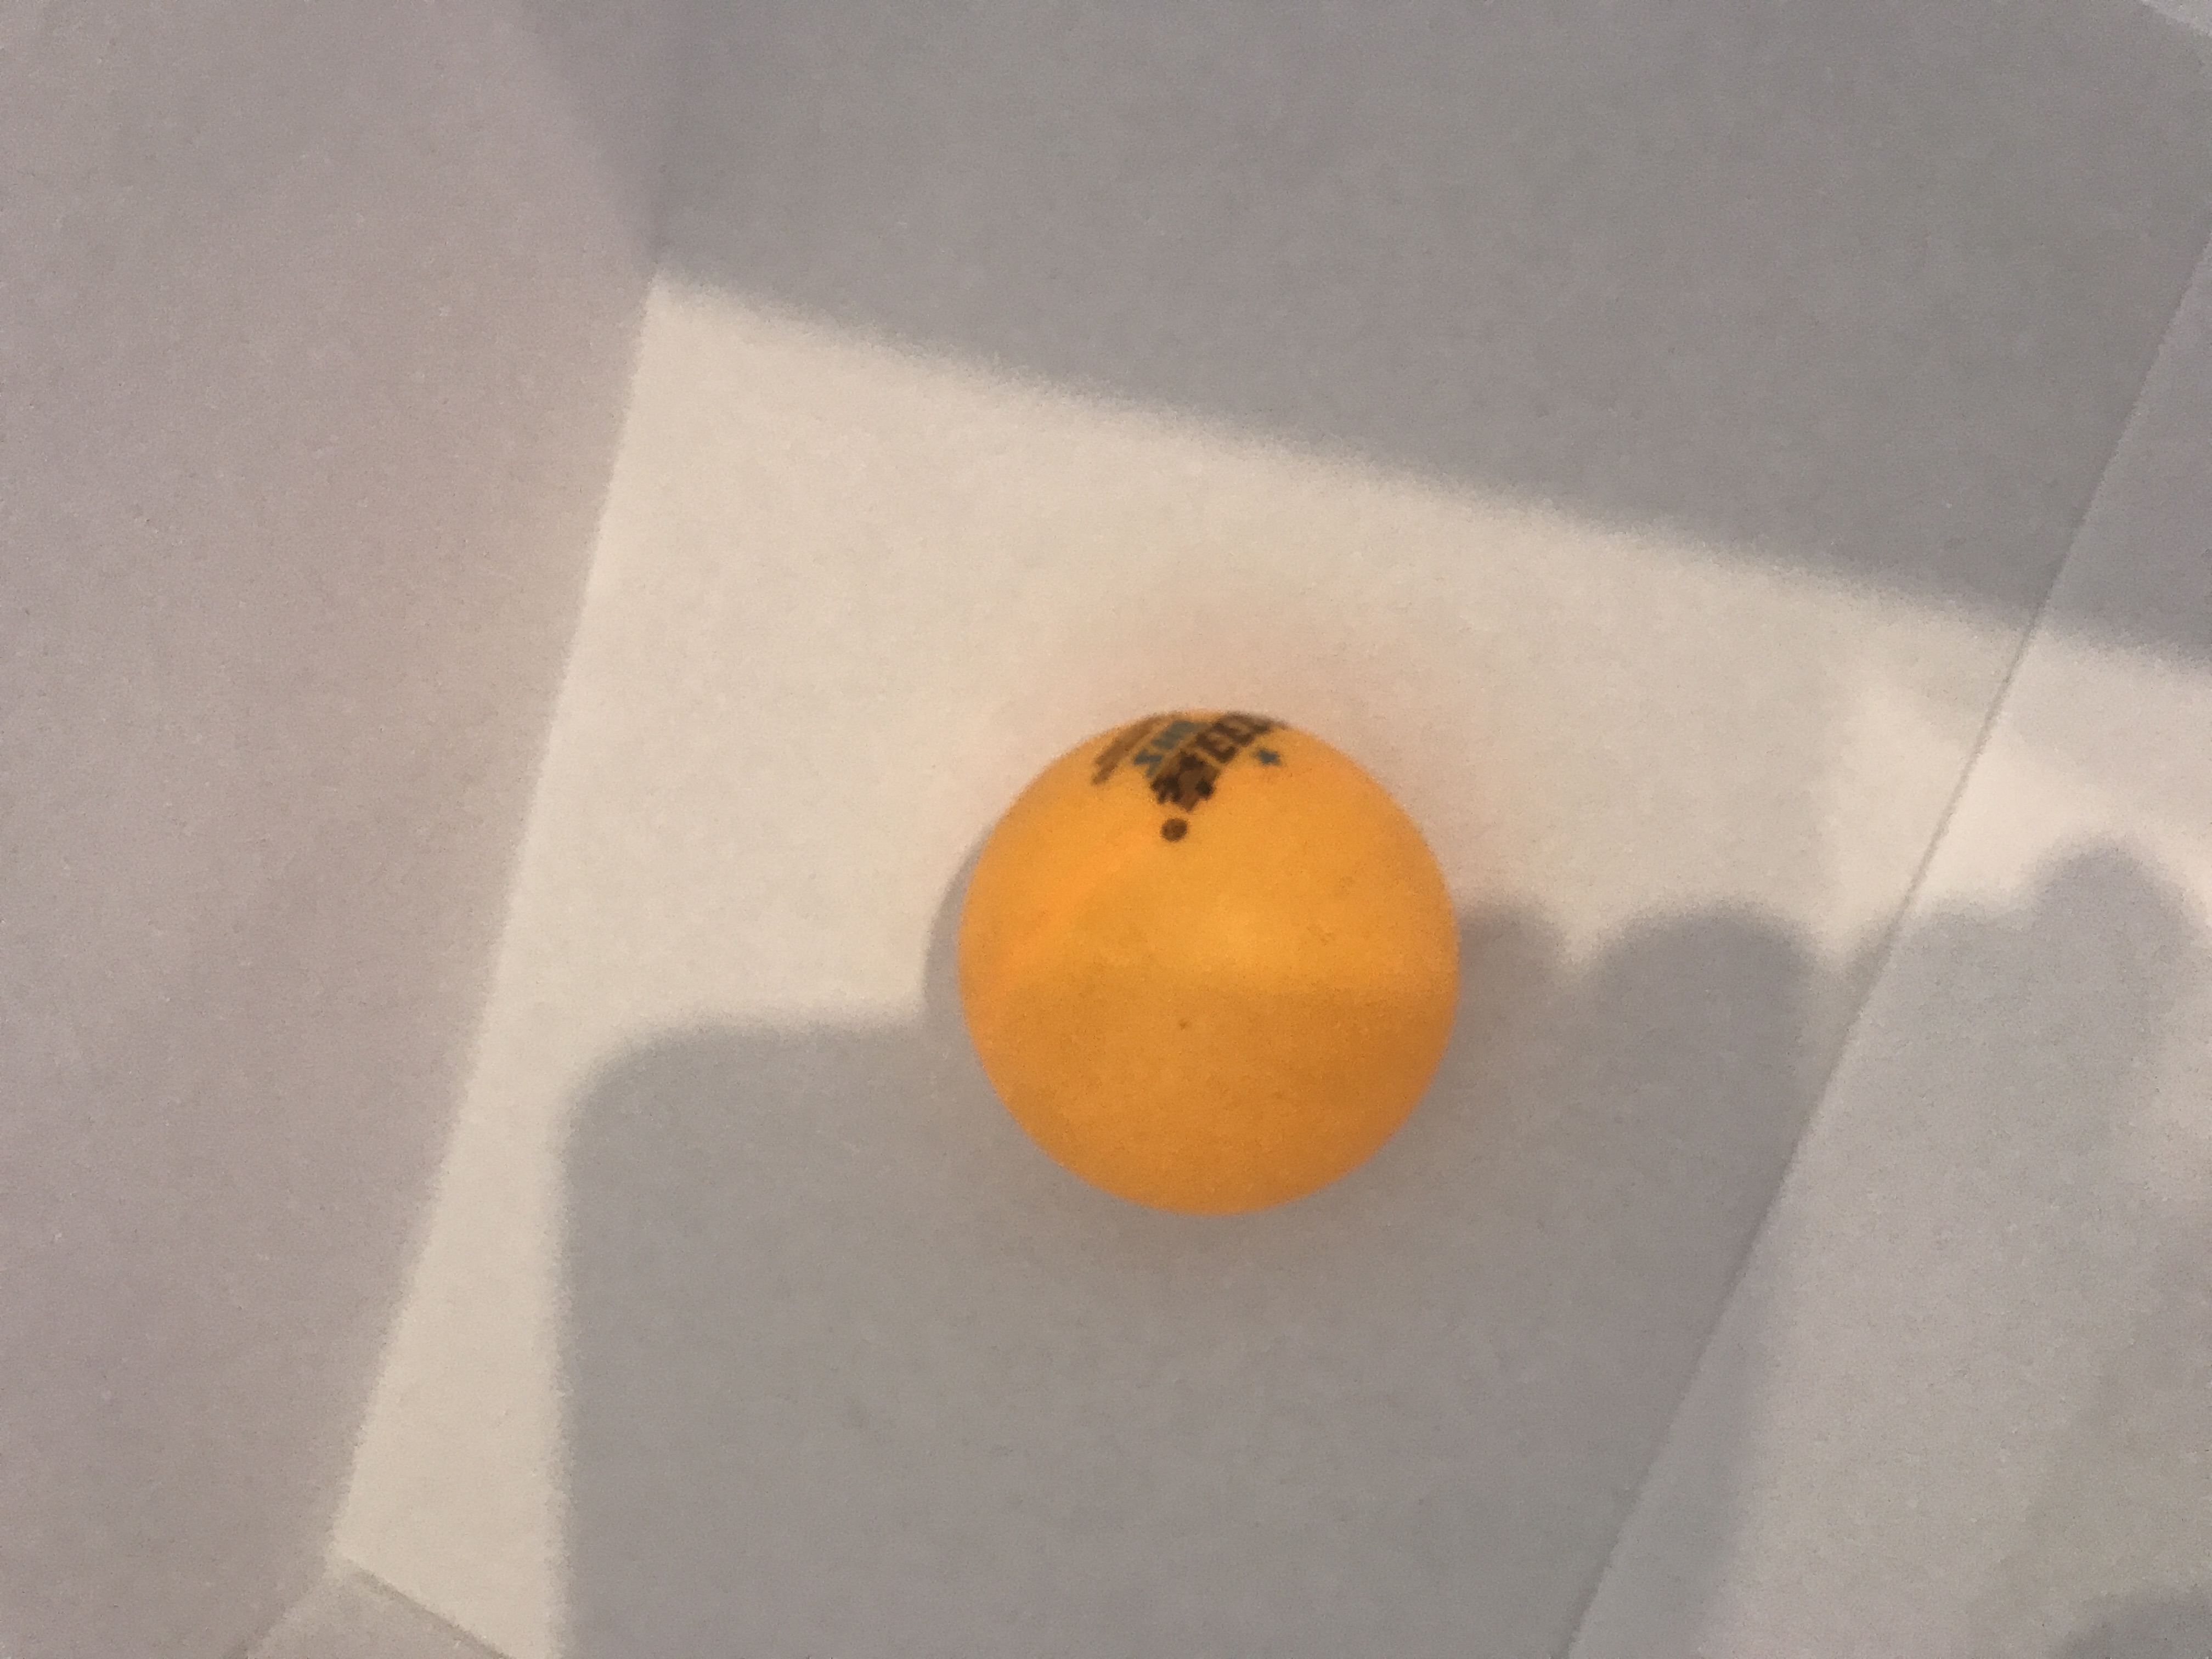pp: (939, 711, 1470, 1223)
